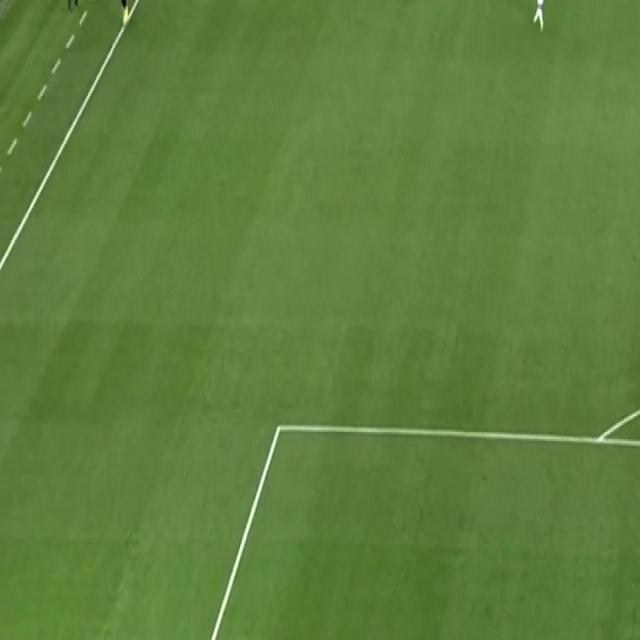player-white: (530, 0, 548, 32), (116, 0, 132, 30)
